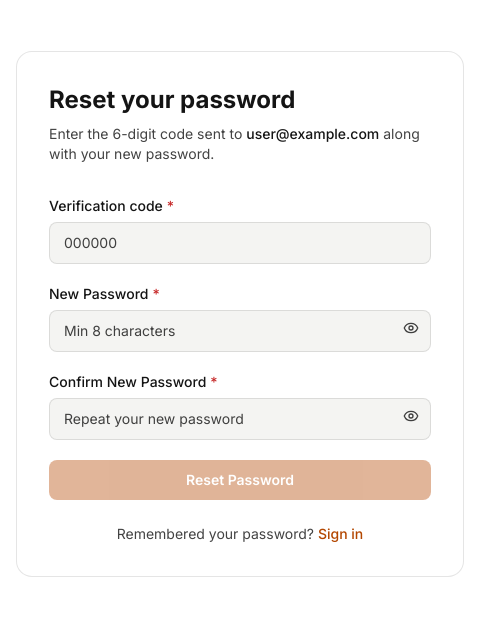
Scenario: ResetPassword › submits successfully and redirects after delay
Type "123456" into the field labelled "Verification code*" at (240, 243), box x1=49 y1=222 x2=431 y2=264
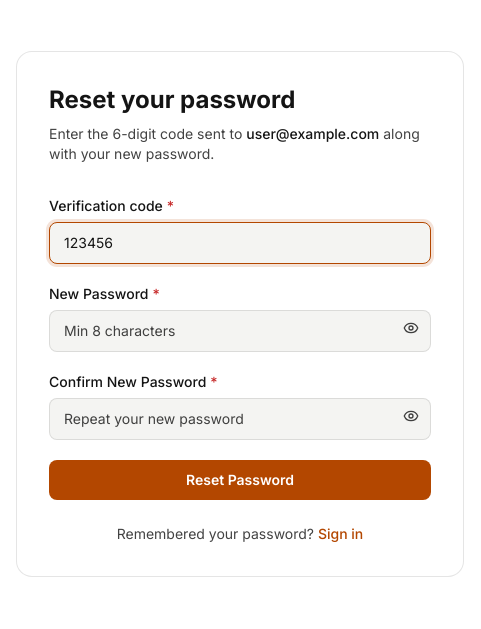
Type "Password123!" into the password field labelled "New Password*" at (240, 331), box x1=49 y1=310 x2=431 y2=352
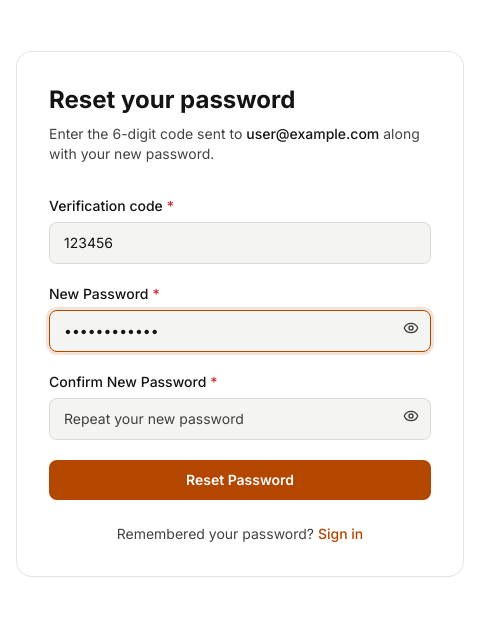
Type "Password123!" into the password field labelled "Confirm New Password*" at (240, 419), box x1=49 y1=398 x2=431 y2=440
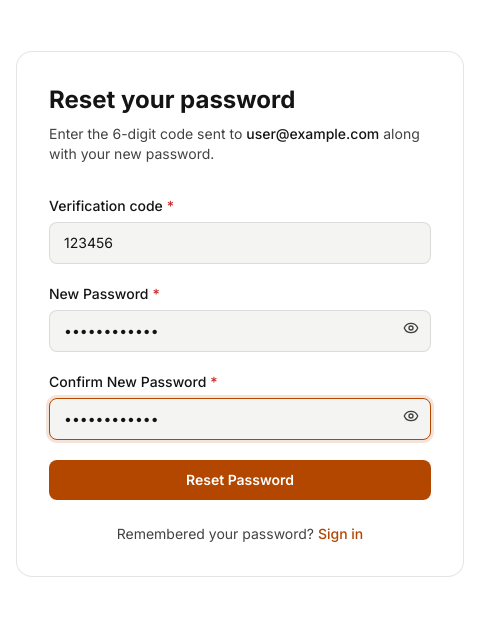
Click the button "Reset Password" at (240, 480), box x1=49 y1=460 x2=431 y2=500
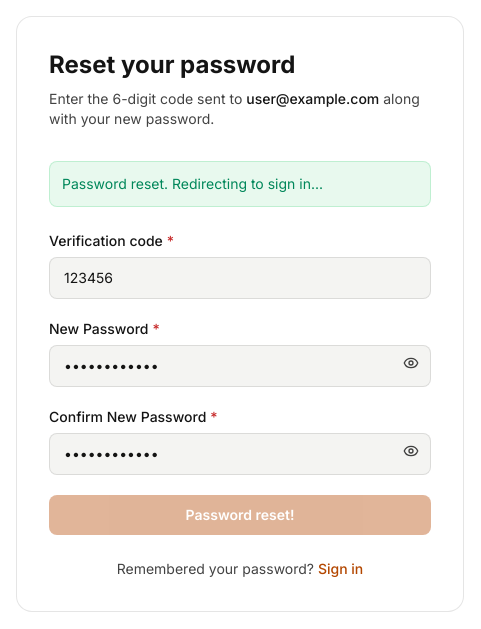
Expected: the message shows "Password reset. Redirecting to sign in", x1=62 y1=175 x2=323 y2=192
